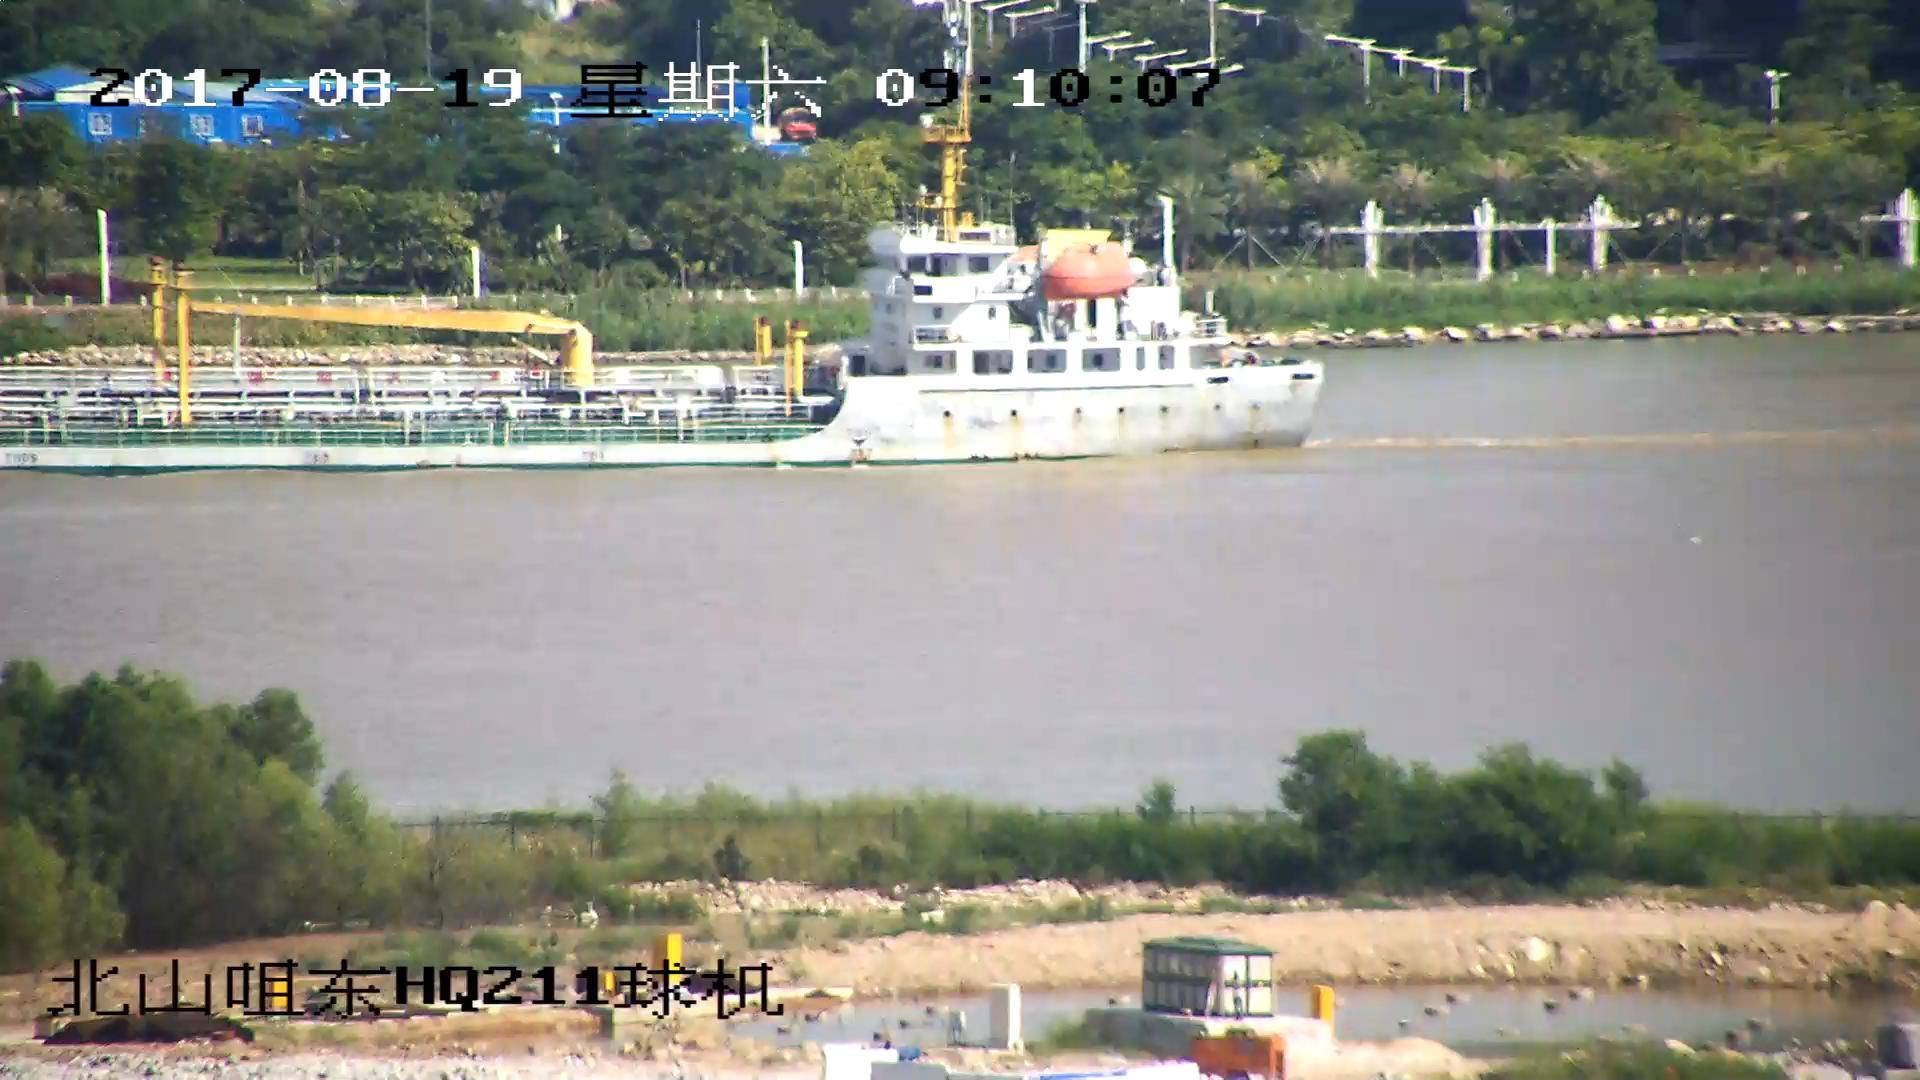Ship: (3, 135, 1332, 465)
